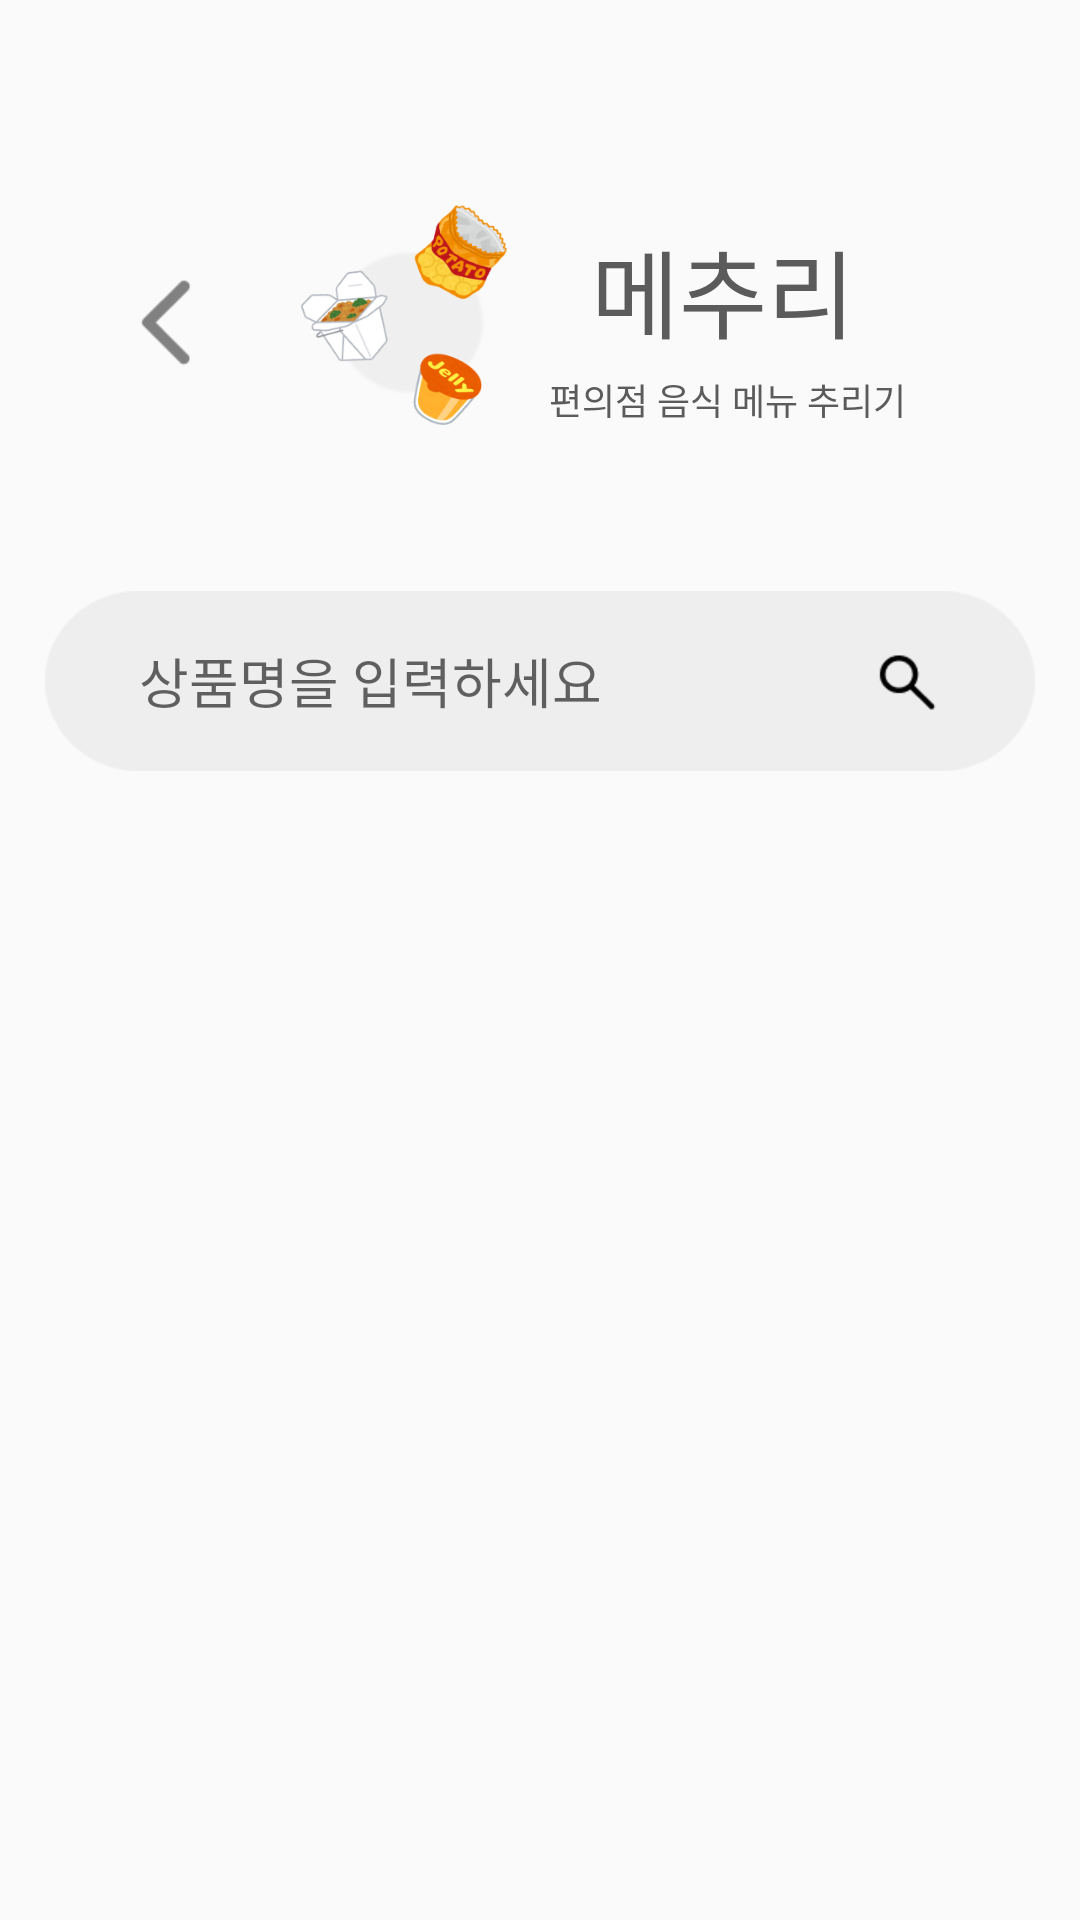

Screen size 1080x1920. Icon name, then its center in pixels as (x,y):
backpressbtn: (166,322)
mainicon: (404,315)
recommendmenu add search: (907,682)
